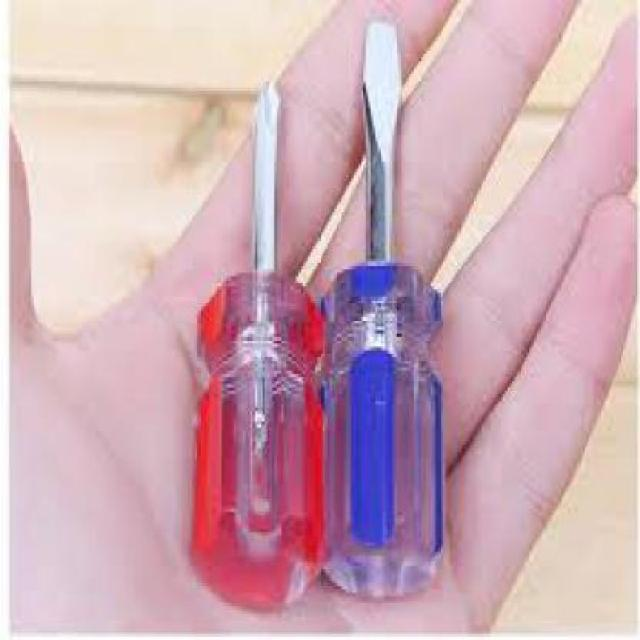screwdriver: (197, 84, 325, 613), (325, 20, 443, 592)
